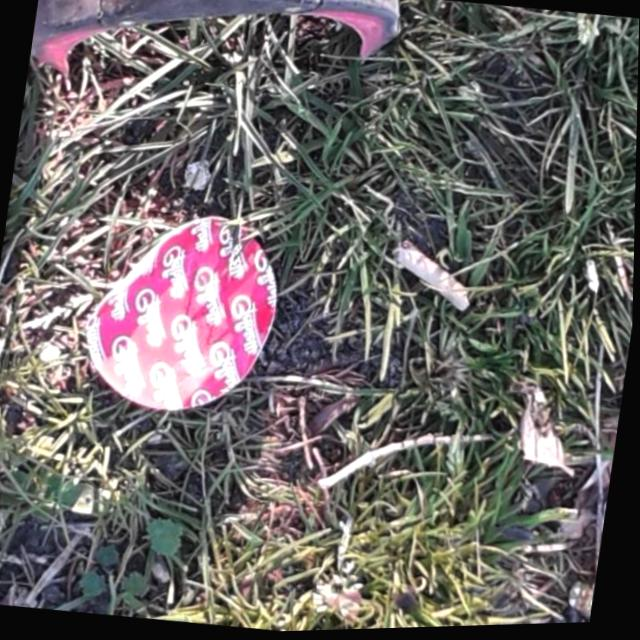Paper: (72, 199, 292, 428)
